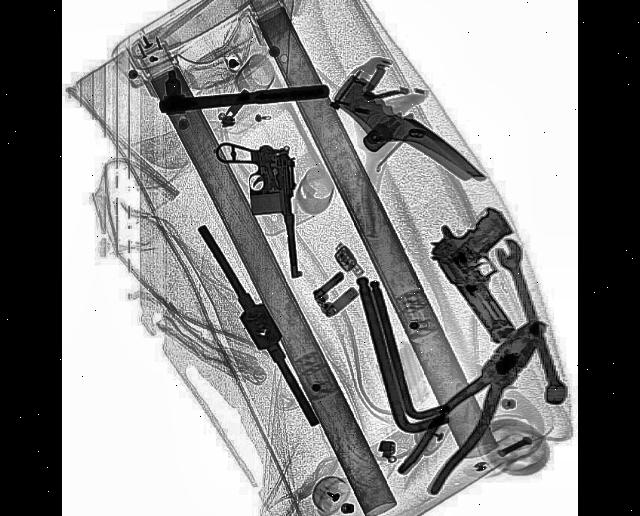Gun: (426, 178, 552, 350), (215, 131, 305, 285)
Pliers: (398, 294, 560, 511)
Wrench: (494, 230, 574, 410)
